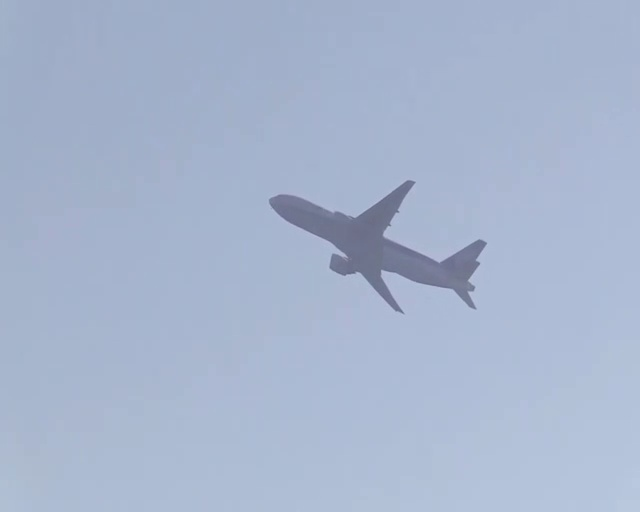AIRPLANE: (268, 181, 489, 314)
